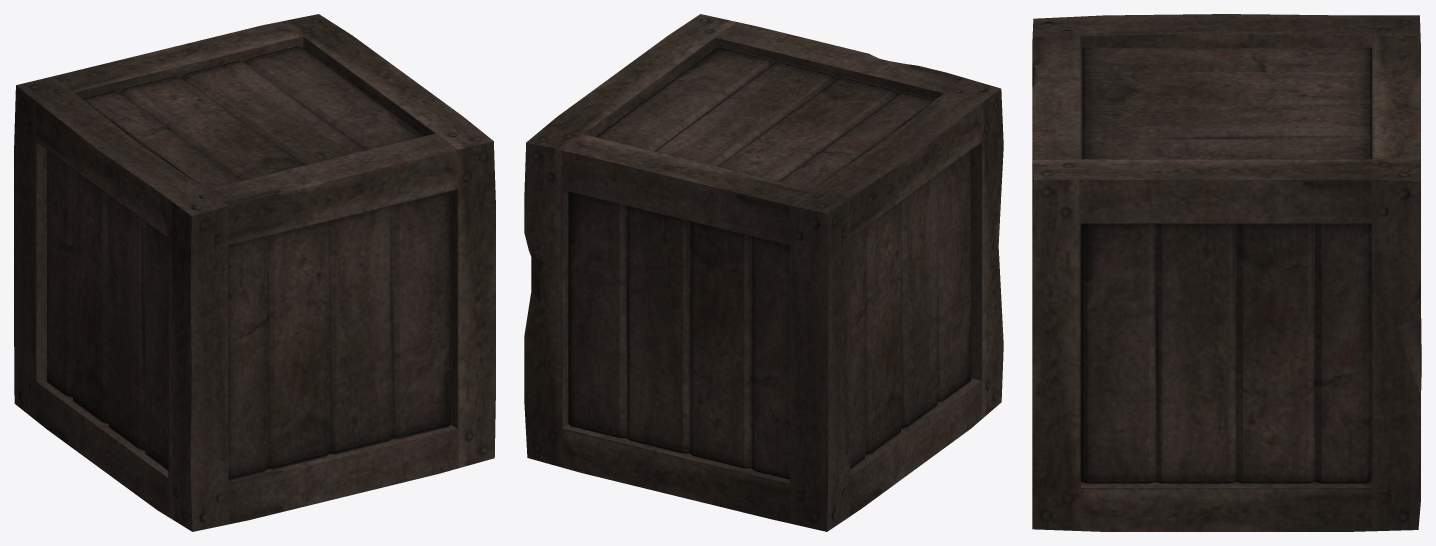
Rendered from wooden_crate_2.obj.
3 views of the same model, side by side, from view 1: azimuth 30°, elevation 25°; view 2: azimuth 150°, elevation 25°; view 3: azimuth 270°, elevation 25° (orthographic). The views are drawn at different scales.
Parts seen in each view (by area): view 1: wooden_crate_2; view 2: wooden_crate_2; view 3: wooden_crate_2.
Part boxes in pixels (box(x1,y1,x2,y2)): wooden_crate_2: box(14, 14, 495, 531); wooden_crate_2: box(524, 14, 1003, 531); wooden_crate_2: box(1032, 14, 1421, 531).
Size of the model in its own units: 1.09 by 1.08 by 1.08.
